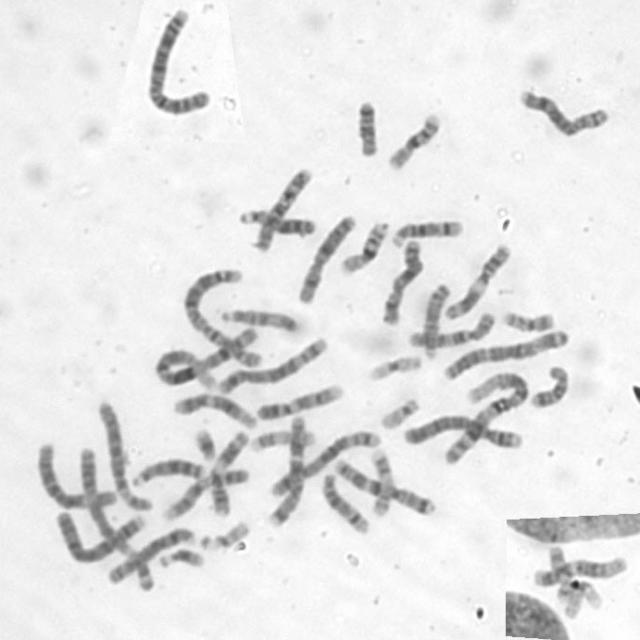A1: (440, 366, 533, 467), (150, 321, 262, 390)
A2: (179, 262, 266, 370), (142, 2, 214, 118)
A3: (73, 440, 158, 594), (438, 323, 572, 382)
B4: (51, 504, 148, 564), (399, 409, 525, 450)
B5: (264, 424, 383, 500), (213, 332, 330, 394)
C10: (247, 161, 315, 253), (404, 306, 499, 350)
C11: (439, 238, 515, 321), (205, 424, 252, 518)
C12: (168, 388, 260, 430), (530, 552, 630, 588)
C6: (92, 396, 154, 514), (32, 436, 120, 511)
C7: (328, 452, 437, 516), (264, 412, 313, 529)
C8: (102, 522, 198, 586), (513, 83, 612, 138)
C9: (159, 462, 253, 522), (252, 378, 346, 422)
D13: (234, 203, 320, 238), (127, 452, 207, 488)
D14: (318, 468, 372, 536), (387, 213, 466, 249)
D15: (418, 278, 453, 359), (216, 302, 302, 334)
E16: (382, 106, 444, 172), (337, 214, 393, 276)
E17: (365, 444, 396, 518), (246, 424, 318, 454)
E18: (526, 360, 572, 410), (352, 94, 382, 159)
F19: (552, 575, 604, 614), (365, 349, 424, 383)
F20: (543, 540, 574, 605), (498, 304, 558, 333)
G21: (154, 543, 208, 570), (190, 422, 219, 462)
G22: (195, 515, 252, 551), (376, 393, 422, 430)
X: (292, 208, 358, 306), (378, 234, 427, 328)
